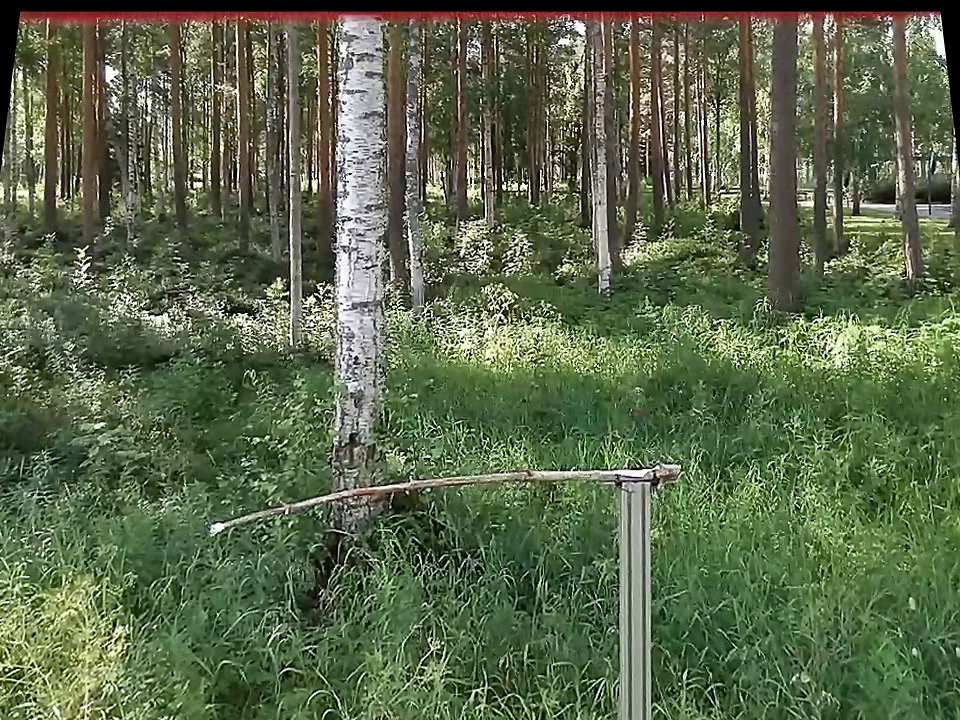aluminum_frame: (616, 483, 653, 717)
branch: (225, 461, 612, 535)
